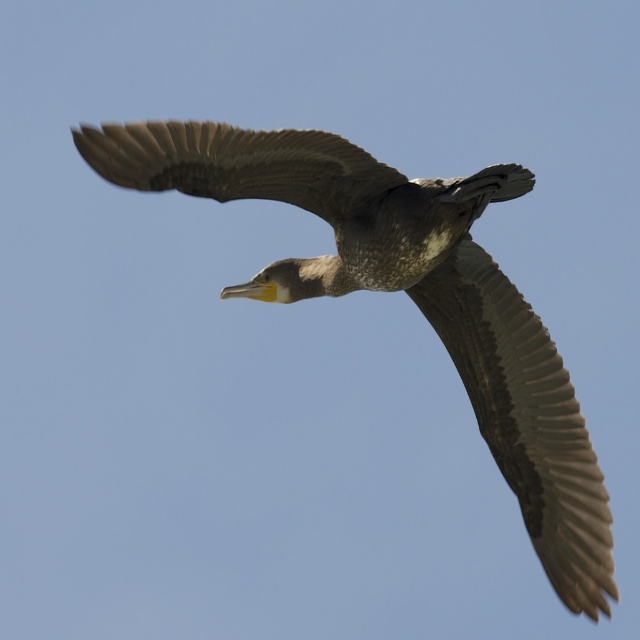Eagle: (70, 117, 621, 625)
